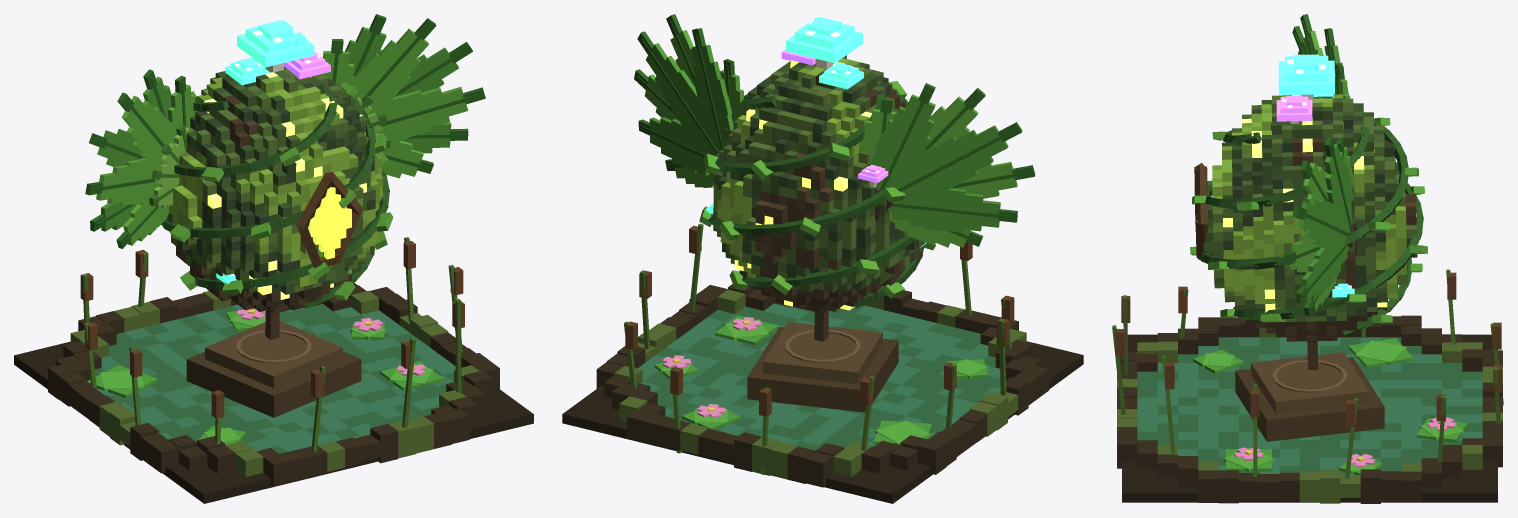
File: egg_swamp.glb
The picture shows the model from 3 angles, left to right: view 1: azimuth 30°, elevation 25°; view 2: azimuth 150°, elevation 25°; view 3: azimuth 270°, elevation 25°; orthographic projection.
Parts seen in each view (by area): view 1: root_geo, shell_geo, wing_L_geo, wing_R_geo, egg_geo, shrooms_geo, pads_geo, emblem_geo; view 2: root_geo, shell_geo, wing_R_geo, wing_L_geo, egg_geo, pads_geo, shrooms_geo; view 3: root_geo, shell_geo, egg_geo, wing_L_geo, pads_geo, shrooms_geo, wing_R_geo, emblem_geo.
Part boxes in pixels (bbox=[...]): root_geo: bbox=[14, 237, 533, 503]; shell_geo: bbox=[167, 67, 383, 339]; wing_L_geo: bbox=[323, 14, 485, 178]; wing_R_geo: bbox=[85, 69, 196, 248]; egg_geo: bbox=[161, 78, 393, 308]; shrooms_geo: bbox=[225, 20, 330, 106]; pads_geo: bbox=[87, 308, 443, 444]; emblem_geo: bbox=[295, 172, 362, 268]; root_geo: bbox=[562, 223, 1083, 503]; shell_geo: bbox=[713, 55, 925, 341]; wing_R_geo: bbox=[859, 83, 1035, 247]; wing_L_geo: bbox=[634, 14, 743, 187]; egg_geo: bbox=[699, 81, 935, 307]; pads_geo: bbox=[654, 316, 988, 444]; shrooms_geo: bbox=[781, 17, 863, 102]; root_geo: bbox=[1112, 269, 1503, 503]; shell_geo: bbox=[1203, 94, 1417, 369]; egg_geo: bbox=[1190, 117, 1427, 337]; wing_L_geo: bbox=[1283, 137, 1356, 315]; pads_geo: bbox=[1193, 338, 1467, 475]; shrooms_geo: bbox=[1271, 54, 1343, 130]; wing_R_geo: bbox=[1292, 14, 1350, 98]; emblem_geo: bbox=[1194, 163, 1207, 259].
Size of the model in its own units: 8.98 by 7.89 by 7.71.
